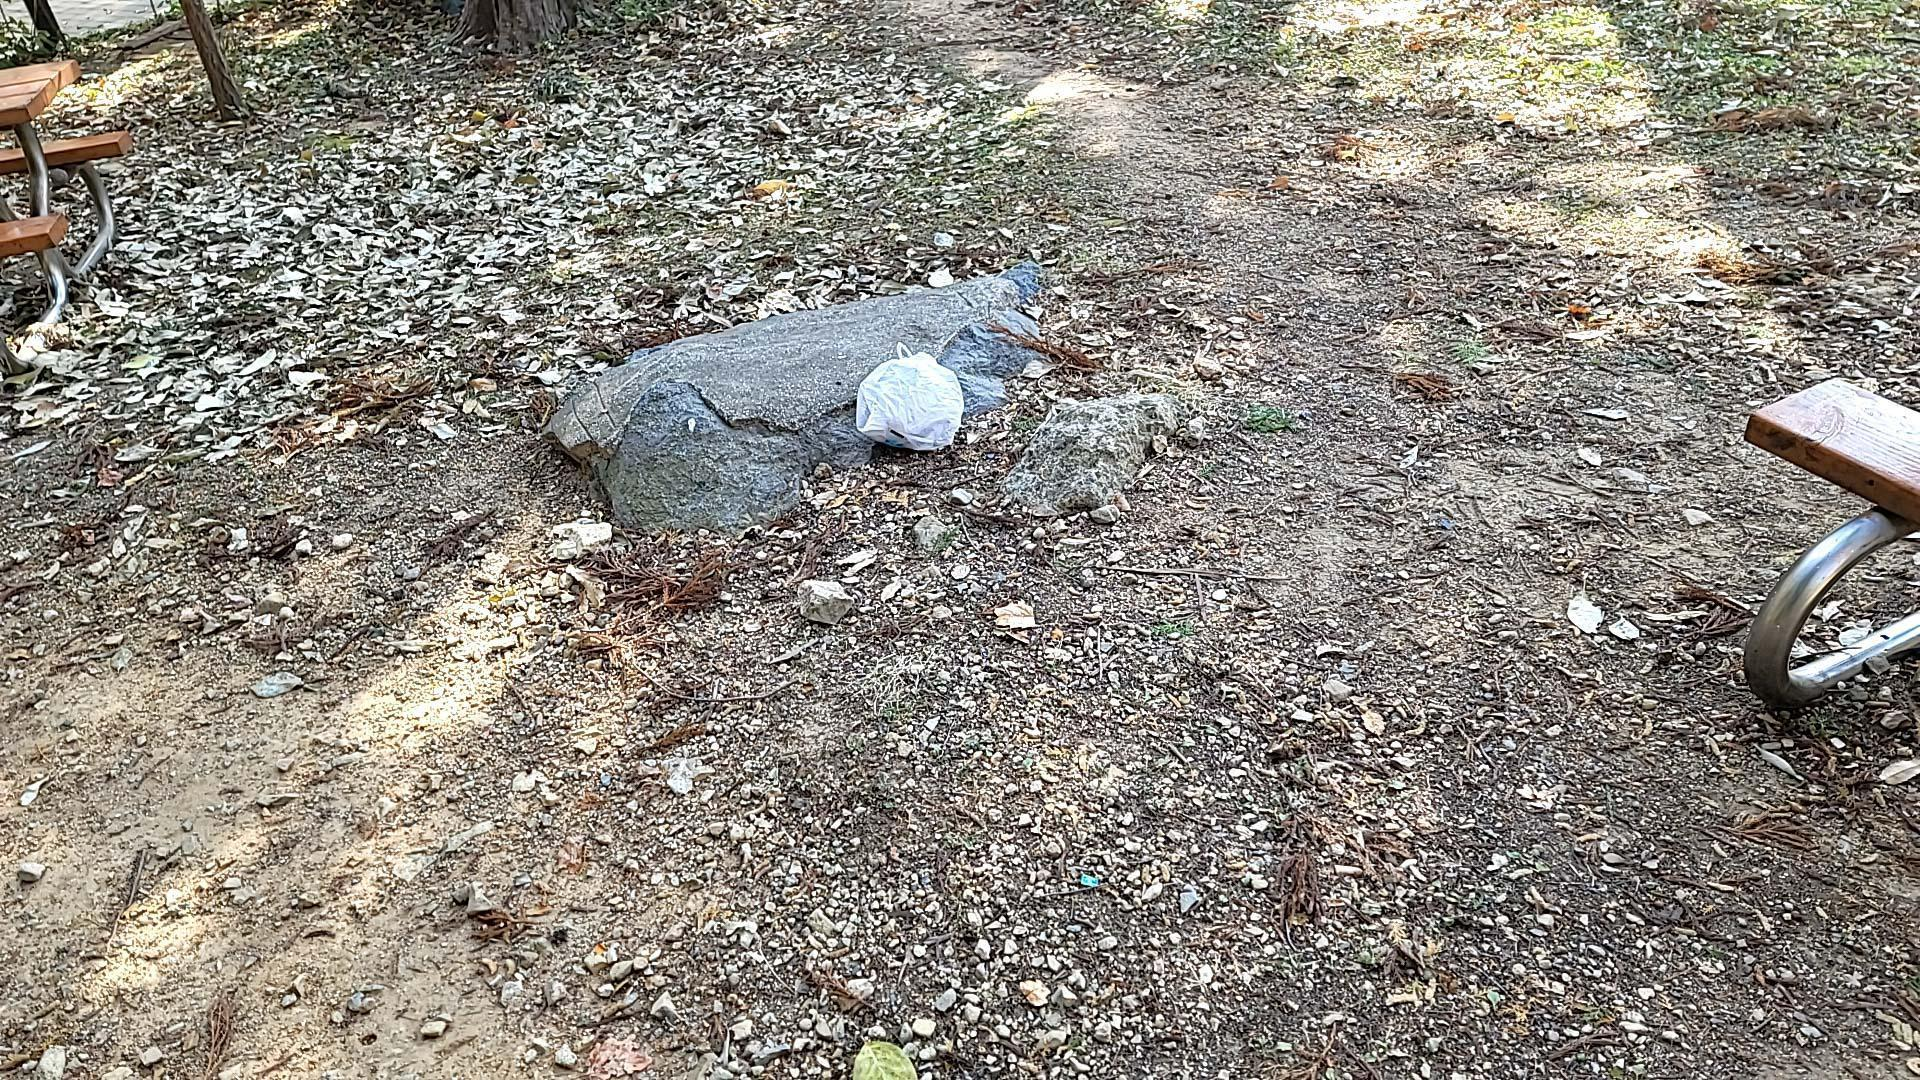white_bag: (829, 342, 969, 462)
